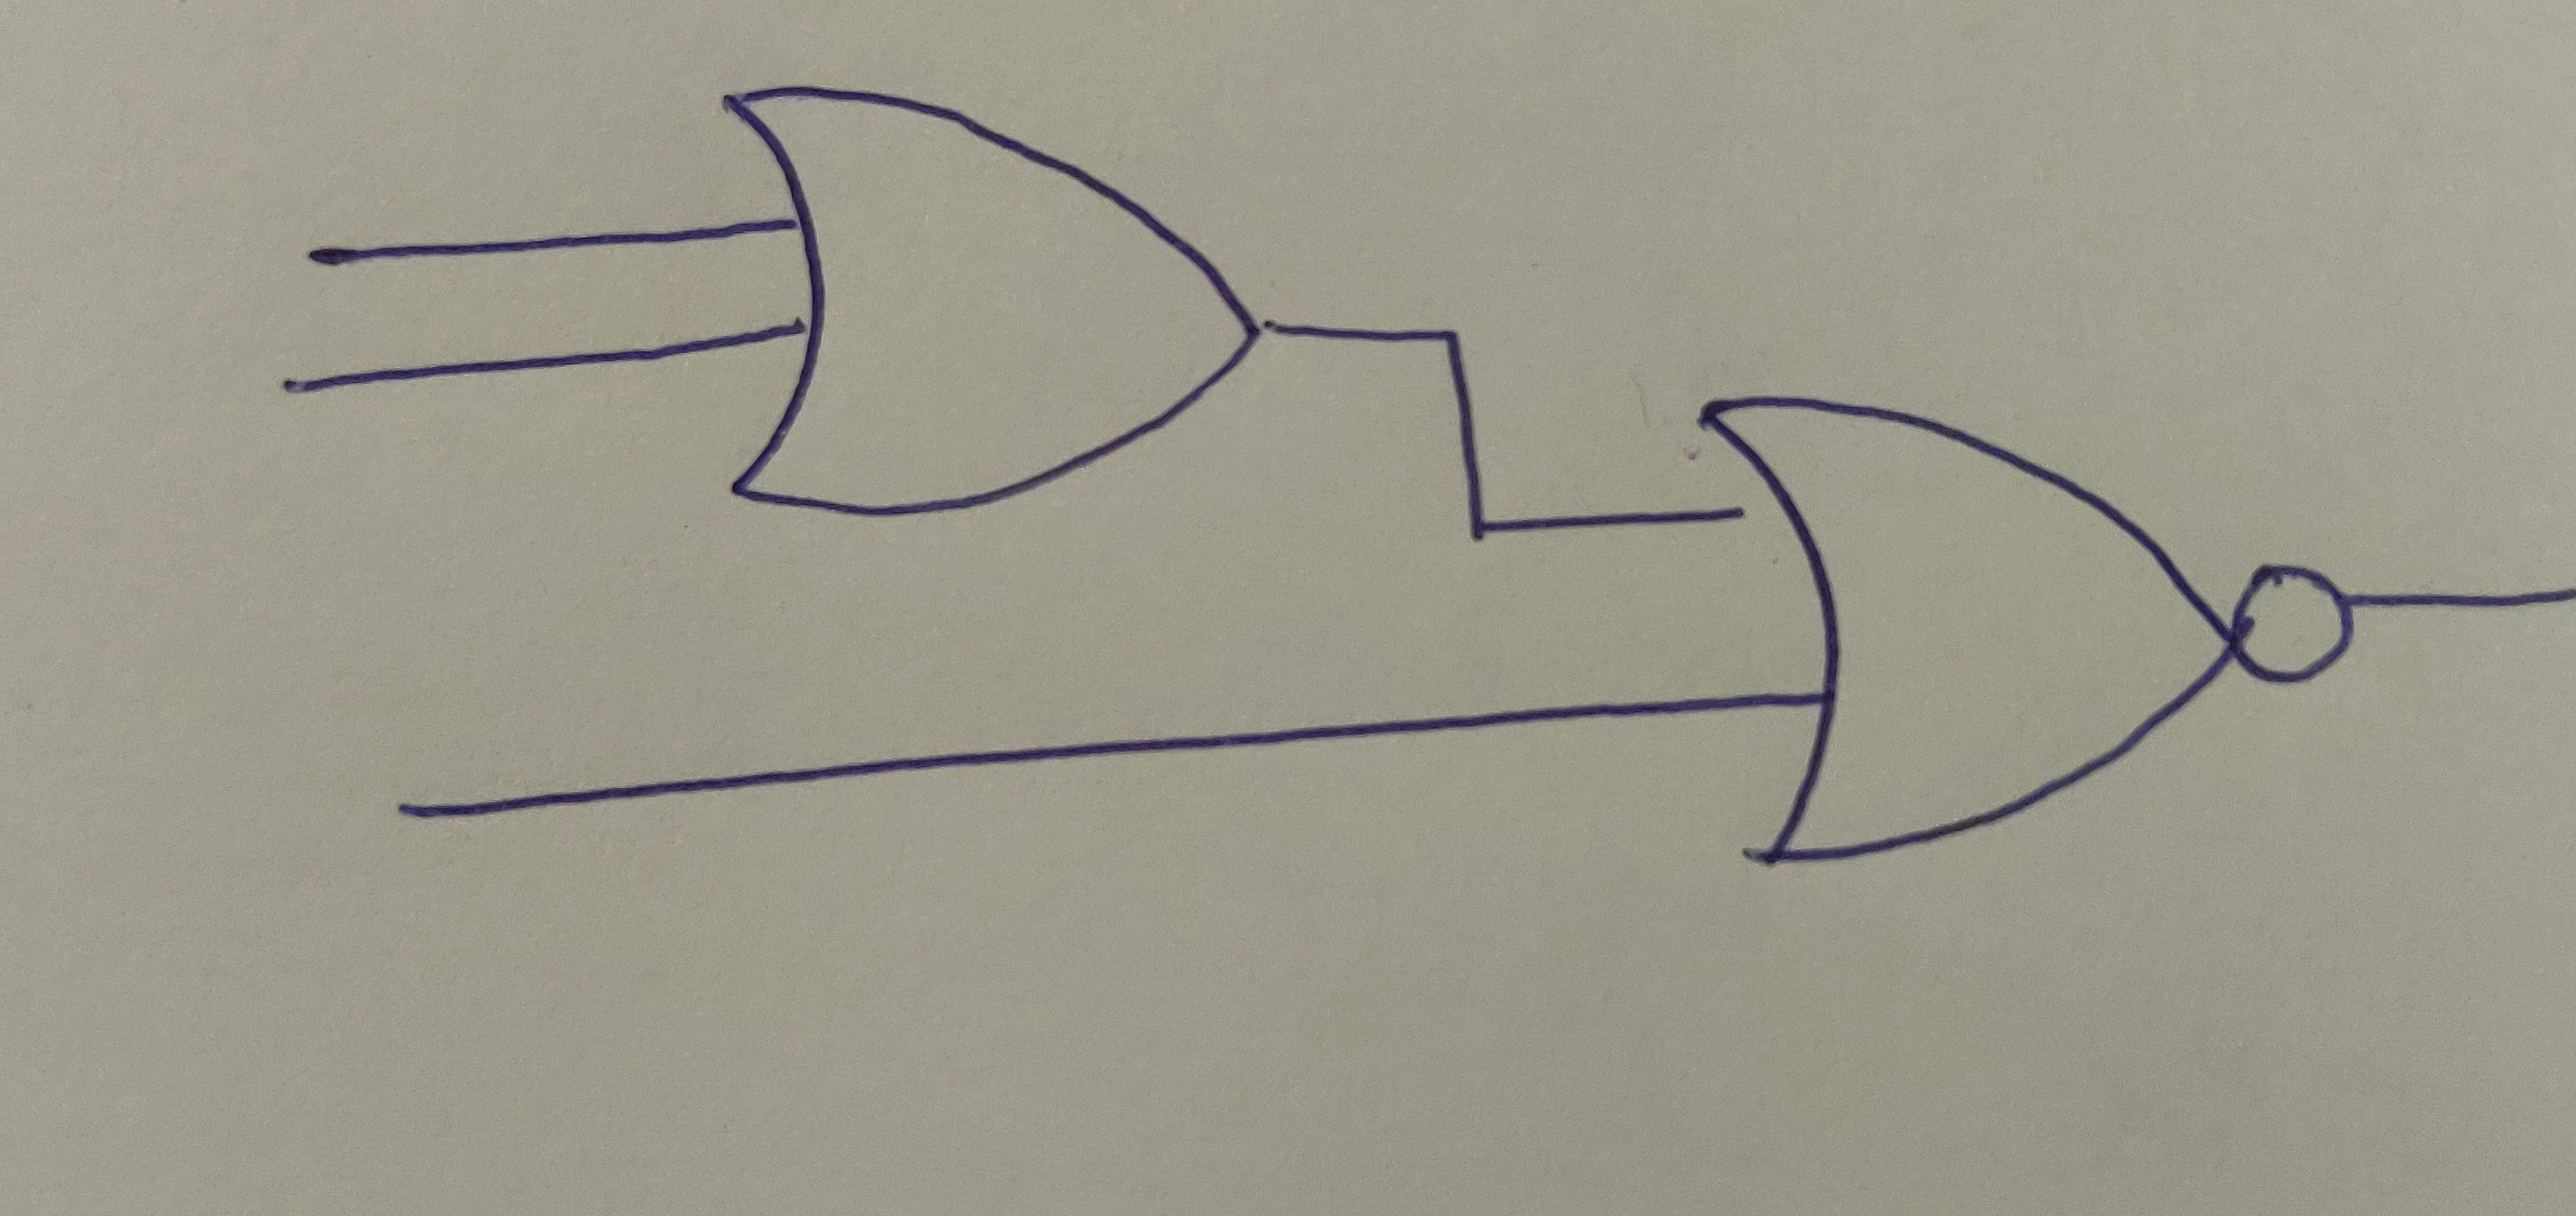not: (2239, 565, 2353, 684)
or: (1699, 394, 2246, 864), (724, 82, 1258, 513)
